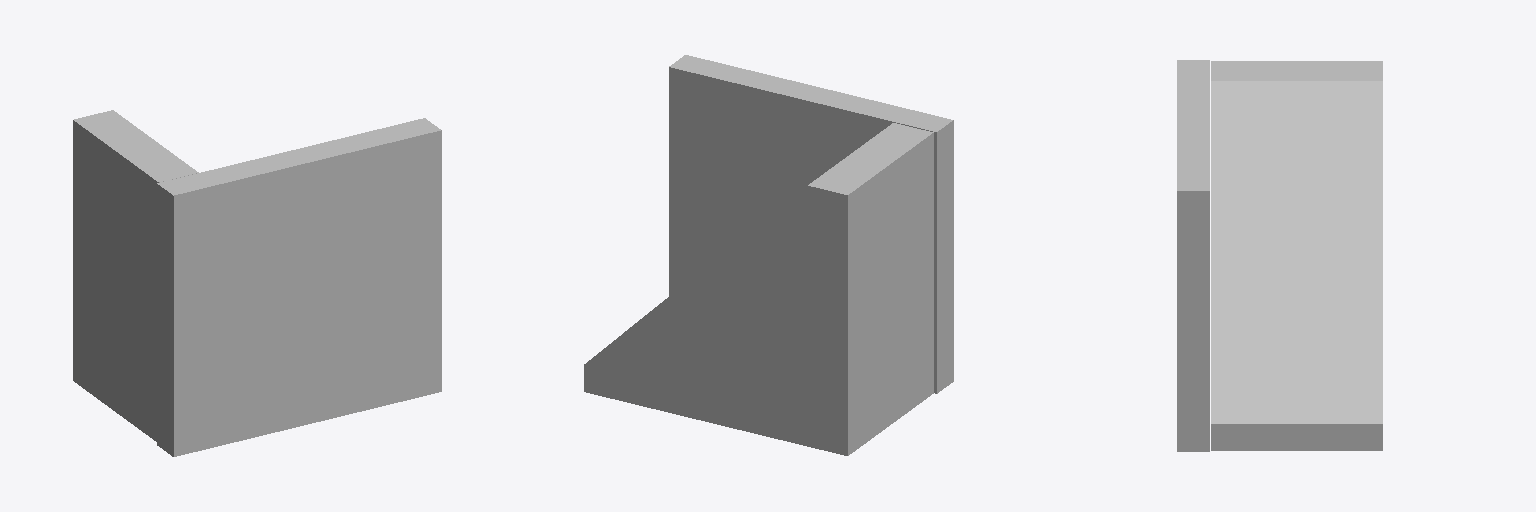
Rendered from Treppe Collider Links.obj.
3 renders of one model, left to right at view 1: azimuth 30°, elevation 25°; view 2: azimuth 150°, elevation 25°; view 3: azimuth 270°, elevation 25°, orthographic.
Parts seen in each view (by area): view 1: Cube; view 2: Cube; view 3: Cube.
Part boxes in pixels (x1,y1,x2,y2): Cube: (73, 110, 441, 456); Cube: (584, 55, 953, 455); Cube: (1177, 60, 1382, 451).
Bounding box in the file's own units: 1.62 × 1.51 × 1.08.